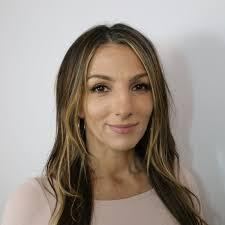Persons: (56, 27, 179, 171)
